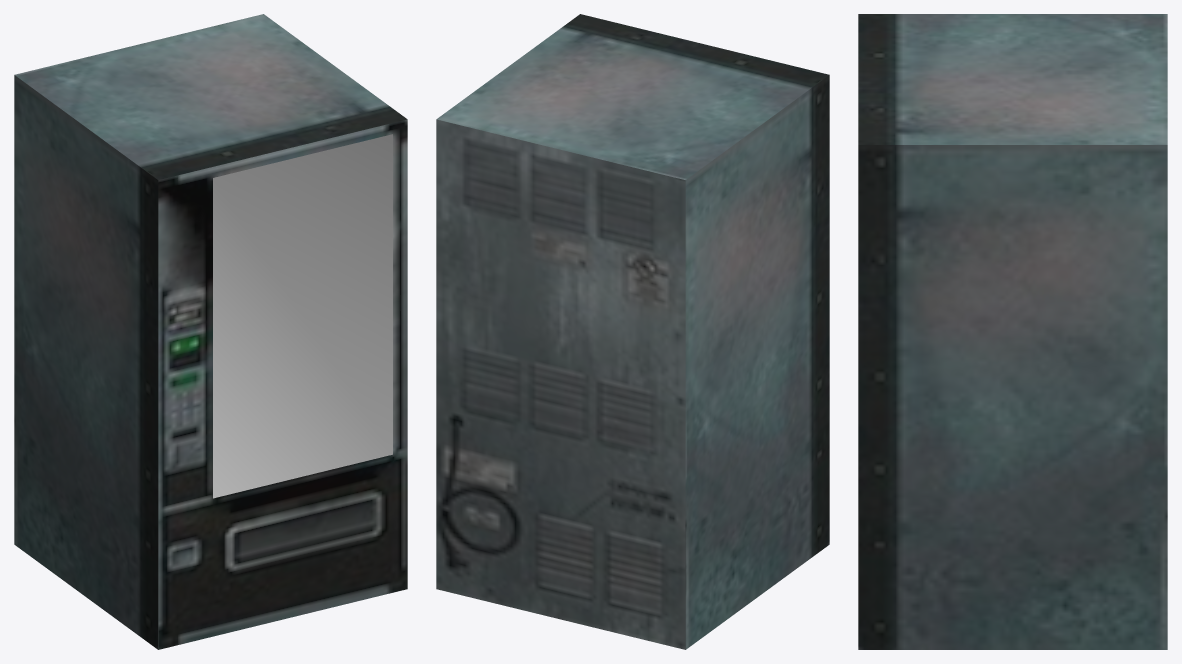
File: pr_vend.glb
3 renders of one model, left to right at view 1: azimuth 30°, elevation 25°; view 2: azimuth 150°, elevation 25°; view 3: azimuth 270°, elevation 25°, orthographic. The views are drawn at different scales.
Visible parts, largest first — view 1: body|Body, body|glass; view 2: body|Body; view 3: body|Body.
Boxes of the visible parts, bbox=[...] form: body|Body: bbox=[14, 14, 407, 649]; body|glass: bbox=[213, 134, 392, 498]; body|Body: bbox=[436, 14, 829, 649]; body|Body: bbox=[858, 14, 1167, 649].
Size of the model in its own units: 1 by 1.8 by 1.
3 materials, 2 textured.
